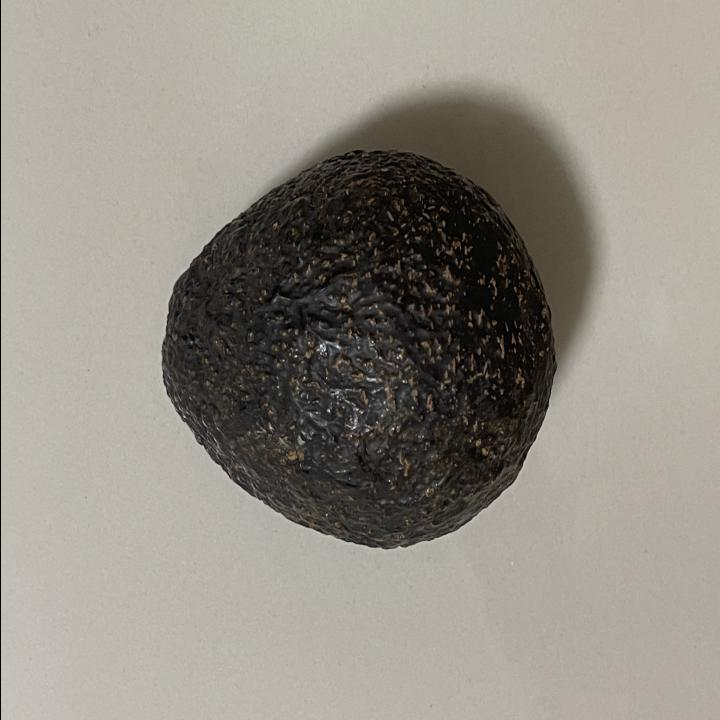Level2: (151, 140, 564, 560)
